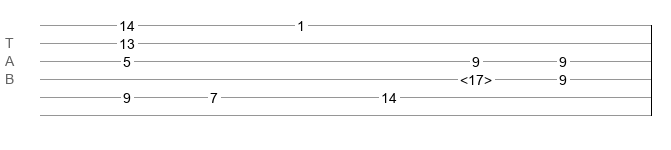1: (297, 18, 305, 28)
13: (119, 36, 135, 46)
14: (119, 18, 135, 28), (381, 90, 397, 100)
5: (123, 54, 131, 64)
7: (210, 90, 218, 100)
9: (123, 90, 131, 100), (472, 54, 480, 64), (559, 72, 567, 82), (559, 54, 567, 64)
harmonic: (460, 72, 492, 82)
